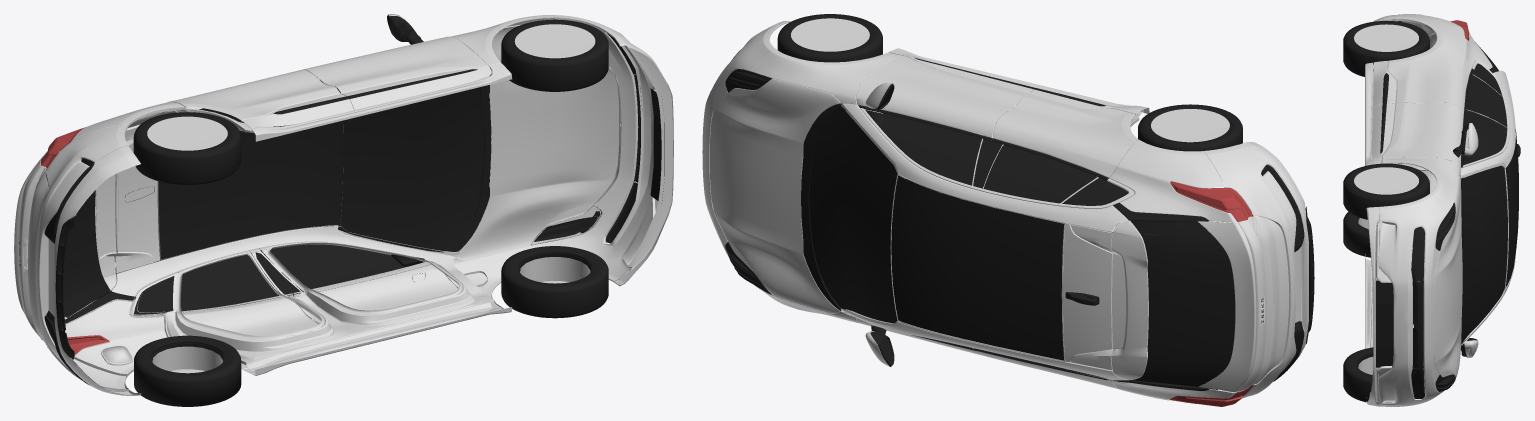
File: car08.gltf
3 renders of one model, left to right at view 1: azimuth 30°, elevation 25°; view 2: azimuth 150°, elevation 25°; view 3: azimuth 270°, elevation 25°, orthographic. The views are drawn at different scales.
Visible parts, largest first — view 1: Wheel_RF_Tire_01.001_Wheel_RR_Tire_old.005; view 2: Wheel_RF_Tire_01.001_Wheel_RR_Tire_old.005; view 3: Wheel_RF_Tire_01.001_Wheel_RR_Tire_old.005.
Boxes of the visible parts, x1,y1,x2,y2 form: Wheel_RF_Tire_01.001_Wheel_RR_Tire_old.005: (14,14,673,406); Wheel_RF_Tire_01.001_Wheel_RR_Tire_old.005: (702,14,1314,406); Wheel_RF_Tire_01.001_Wheel_RR_Tire_old.005: (1343,14,1520,406).
Size of the model in its own units: 4.96 by 2.26 by 1.56.
Materials: 1 (1 with a texture image).
